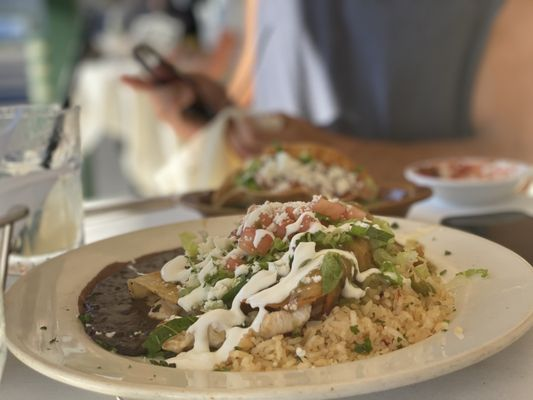curry: (14, 102, 532, 398)
